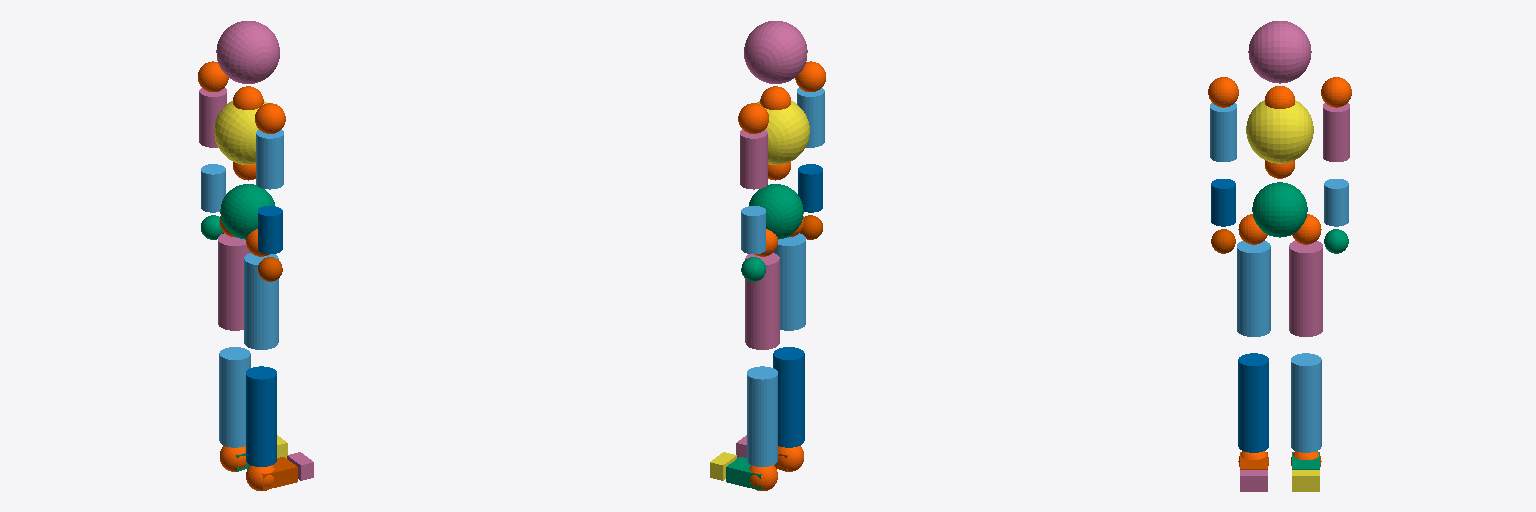
URDF robot description (dumpUrdf):
<?xml version="1.0" ?>
<!-- =================================================================================== -->
<!-- |    This document was autogenerated by xacro from human_45dof.xacro              | -->
<!-- |    EDITING THIS FILE BY HAND IS NOT RECOMMENDED                                 | -->
<!-- =================================================================================== -->
<robot name="dumpUrdf">
  <material name="orange">
    <color rgba="1.0 0.4235294117647059 0.0392156862745098 1.0"/>
  </material>
  <link name="base_link">
	</link>
  <link name="base">
	</link>
  <joint name="j_base_base_link_rotation" type="fixed">
    <parent link="base_link"/>
    <child link="base"/>
    <origin rpy="1.5707963267948966 0 0" xyz="0 0 0"/>
  </joint>
  <link name="root">
    <inertial>
      <origin rpy="0 0 0" xyz="0.0 0.07 0.0"/>
      <mass value="6.000000"/>
      <inertia ixx="0.019440000000000002" ixy="0" ixz="0" iyy="0.019440000000000002" iyz="0" izz="0.019440000000000002"/>
    </inertial>
    <collision>
      <origin rpy="0 0 0" xyz="0.000000 0.070000 0.000000"/>
      <geometry>
        <sphere radius="0.09"/>
      </geometry>
    </collision>
    <visual>
      <origin rpy="0 0 0" xyz="0.000000 0.070000 0.000000"/>
      <geometry>
        <sphere radius="0.09"/>
      </geometry>
    </visual>
  </link>
  <joint name="j_root" type="fixed">
    <parent link="base"/>
    <child link="root"/>
    <origin rpy="0 0 0" xyz="0 0.000000 0.000000"/>
  </joint>
  <link name="chest">
    <inertial>
      <origin rpy="0 0 0" xyz="0.000000 0.120000 0.000000"/>
      <mass value="14.000000"/>
      <inertia ixx="0.06776000000000001" ixy="0" ixz="0" iyy="0.06776000000000001" iyz="0" izz="0.06776000000000001"/>
    </inertial>
    <collision>
      <origin rpy="0 0 0" xyz="0.000000 0.120000 0.000000"/>
      <geometry>
        <sphere radius="0.11"/>
      </geometry>
    </collision>
    <visual>
      <origin rpy="0 0 0" xyz="0.000000 0.120000 0.000000"/>
      <geometry>
        <sphere radius="0.11"/>
      </geometry>
    </visual>
  </link>
  <link name="root_chest_link1">
    <inertial>
      <mass value="1e-02"/>
      <inertia ixx="1e-02" ixy="0" ixz="0" iyy="1e-02" iyz="0" izz="1e-02"/>
    </inertial>
  </link>
  <joint name="j_root_chest_joint1" type="revolute">
    <origin rpy="0 0 0" xyz="0.000000 0.236151 0.000000"/>
    <parent link="root"/>
    <child link="root_chest_link1"/>
    <axis xyz="1 0 0"/>
    <limit effort="200" lower="-1.2" upper="1.2" velocity="3"/>
  </joint>
  <link name="root_chest_link2">
    <inertial>
      <mass value="1e-02"/>
      <inertia ixx="1e-02" ixy="0" ixz="0" iyy="1e-02" iyz="0" izz="1e-02"/>
    </inertial>
    <visual>
      <geometry>
        <sphere radius="0.05"/>
      </geometry>
      <material name="orange"/>
    </visual>
  </link>
  <joint name="j_root_chest_joint2" type="revolute">
    <parent link="root_chest_link1"/>
    <child link="root_chest_link2"/>
    <axis xyz="0 1 0"/>
    <limit effort="200" lower="-1.2" upper="1.2" velocity="3"/>
  </joint>
  <joint name="j_root_chest_joint3" type="revolute">
    <parent link="root_chest_link2"/>
    <child link="chest"/>
    <axis xyz="0 0 1"/>
    <limit effort="200" lower="-1.2" upper="1.2" velocity="3"/>
  </joint>
  <link name="neck">
    <inertial>
      <origin rpy="0 0 0" xyz="0.0 0.175 0.0"/>
      <mass value="2.000000"/>
      <inertia ixx="0.008405" ixy="0" ixz="0" iyy="0.008405" iyz="0" izz="0.008405"/>
    </inertial>
    <collision>
      <origin rpy="0 0 0" xyz="0.0 0.175 0.0"/>
      <geometry>
        <sphere radius="0.1025"/>
      </geometry>
    </collision>
    <visual>
      <origin rpy="0 0 0" xyz="0.0 0.175 0.0"/>
      <geometry>
        <sphere radius="0.1025"/>
      </geometry>
    </visual>
  </link>
  <link name="chest_neck_link1">
    <inertial>
      <mass value="1e-02"/>
      <inertia ixx="1e-02" ixy="0" ixz="0" iyy="1e-02" iyz="0" izz="1e-02"/>
    </inertial>
  </link>
  <joint name="j_chest_neck_joint1" type="revolute">
    <origin rpy="0 0 0" xyz="0.000000 0.223894 0.000000"/>
    <parent link="chest"/>
    <child link="chest_neck_link1"/>
    <axis xyz="1 0 0"/>
    <limit effort="50" lower="-1" upper="1" velocity="3"/>
  </joint>
  <link name="chest_neck_link2">
    <inertial>
      <mass value="1e-02"/>
      <inertia ixx="1e-02" ixy="0" ixz="0" iyy="1e-02" iyz="0" izz="1e-02"/>
    </inertial>
    <visual>
      <geometry>
        <sphere radius="0.05"/>
      </geometry>
      <material name="orange"/>
    </visual>
  </link>
  <joint name="j_chest_neck_joint2" type="revolute">
    <parent link="chest_neck_link1"/>
    <child link="chest_neck_link2"/>
    <axis xyz="0 1 0"/>
    <limit effort="50" lower="-1" upper="1" velocity="3"/>
  </joint>
  <joint name="j_chest_neck_joint3" type="revolute">
    <parent link="chest_neck_link2"/>
    <child link="neck"/>
    <axis xyz="0 0 1"/>
    <limit effort="50" lower="-1" upper="1" velocity="3"/>
  </joint>
  <link name="right_hip">
    <inertial>
      <origin rpy="0 0 0" xyz="0.000000 -0.210000 0.000000"/>
      <mass value="4.500000"/>
      <inertia ixx="0.037153124999999995" ixy="0.0" ixz="0.0" iyy="0.037153124999999995" iyz="0.0" izz="0.00680625"/>
    </inertial>
    <collision>
      <origin rpy="1.5707963267948966 0 0" xyz="0.000000 -0.210000 0.000000"/>
      <geometry>
        <cylinder length="0.22499999999999998" radius="0.0275"/>
      </geometry>
    </collision>
    <visual>
      <origin rpy="1.5707963267948966 0 0" xyz="0.000000 -0.210000 0.000000"/>
      <geometry>
        <cylinder length="0.3" radius="0.055"/>
      </geometry>
    </visual>
  </link>
  <link name="root_right_hip_link1">
    <inertial>
      <mass value="1e-02"/>
      <inertia ixx="1e-02" ixy="0" ixz="0" iyy="1e-02" iyz="0" izz="1e-02"/>
    </inertial>
  </link>
  <joint name="j_root_right_hip_joint1" type="revolute">
    <origin rpy="0 0 0" xyz="0.000000 0.000000 0.084887"/>
    <parent link="root"/>
    <child link="root_right_hip_link1"/>
    <axis xyz="1 0 0"/>
    <limit effort="200" lower="-1.5" upper="1.5" velocity="3"/>
  </joint>
  <link name="root_right_hip_link2">
    <inertial>
      <mass value="1e-02"/>
      <inertia ixx="1e-02" ixy="0" ixz="0" iyy="1e-02" iyz="0" izz="1e-02"/>
    </inertial>
    <visual>
      <geometry>
        <sphere radius="0.05"/>
      </geometry>
      <material name="orange"/>
    </visual>
  </link>
  <joint name="j_root_right_hip_joint2" type="revolute">
    <parent link="root_right_hip_link1"/>
    <child link="root_right_hip_link2"/>
    <axis xyz="0 1 0"/>
    <limit effort="200" lower="-1.5" upper="1.5" velocity="3"/>
  </joint>
  <joint name="j_root_right_hip_joint3" type="revolute">
    <parent link="root_right_hip_link2"/>
    <child link="right_hip"/>
    <axis xyz="0 0 1"/>
    <limit effort="200" lower="-1.5" upper="1.5" velocity="3"/>
  </joint>
  <link name="right_knee">
    <inertial>
      <origin rpy="0 0 0" xyz="0.000000 -0.200000 0.000000"/>
      <mass value="3.000000"/>
      <inertia ixx="0.1" ixy="0" ixz="0" iyy="0.1" iyz="0" izz="0.1"/>
    </inertial>
    <collision>
      <origin rpy="1.5707963267948966 0 0" xyz="0.000000 -0.200000 0.000000"/>
      <geometry>
        <cylinder length="0.23249999999999998" radius="0.025"/>
      </geometry>
    </collision>
    <visual>
      <origin rpy="1.5707963267948966 0 0" xyz="0.000000 -0.200000 0.000000"/>
      <geometry>
        <cylinder length="0.31" radius="0.05"/>
      </geometry>
    </visual>
  </link>
  <joint name="j_right_knee" type="revolute">
    <parent link="right_hip"/>
    <child link="right_knee"/>
    <limit effort="150.0" lower="-3.14" upper="0." velocity="0.5"/>
    <origin rpy="0 0 0" xyz="0.000000 -0.421546 0.000000"/>
    <axis xyz="0.000000 0.000000 1.000000"/>
  </joint>
  <link name="right_ankle">
    <inertial>
      <origin rpy="0 0 0" xyz="0.045 -0.00225 0.000000"/>
      <mass value="1.000000"/>
      <inertia ixx="0.0009270833333333333" ixy="0.0" ixz="0.0" iyy="0.0028628333333333327" iyz="0.0" izz="0.003285749999999999"/>
    </inertial>
    <collision>
      <origin rpy="0 0 0" xyz="0.045 -0.00225 0.000000"/>
      <geometry>
        <box size="0.127 0.055 0.09"/>
      </geometry>
    </collision>
    <visual>
      <origin rpy="0 0 0" xyz="0.045 -0.00225 0.000000"/>
      <geometry>
        <box size="0.127 0.055 0.09"/>
      </geometry>
    </visual>
  </link>
  <joint name="j_right_toe" type="fixed">
    <parent link="right_ankle"/>
    <child link="right_toe"/>
    <limit effort="150.0" lower="-3.14" upper="0." velocity="0.5"/>
    <origin rpy="0 0 0" xyz="0.1 0.0 0.0"/>
    <axis xyz="0.000000 0.000000 1.000000"/>
  </joint>
  <link name="right_toe">
    <inertial>
      <origin rpy="0 0 0" xyz="0.045 0.0 0.0"/>
      <mass value="0.3"/>
      <inertia ixx="0.0009270833333333333" ixy="0.0" ixz="0.0" iyy="0.0028628333333333327" iyz="0.0" izz="0.003285749999999999"/>
    </inertial>
    <collision>
      <origin rpy="0 0 0" xyz="0.045 0.0 0.0"/>
      <geometry>
        <box size="0.05 0.055 0.09"/>
      </geometry>
    </collision>
    <visual>
      <origin rpy="0 0 0" xyz="0.045 0.0 0.0"/>
      <geometry>
        <box size="0.05 0.055 0.09"/>
      </geometry>
    </visual>
  </link>
  <link name="right_knee_right_ankle_link1">
    <inertial>
      <mass value="1e-02"/>
      <inertia ixx="1e-02" ixy="0" ixz="0" iyy="1e-02" iyz="0" izz="1e-02"/>
    </inertial>
  </link>
  <joint name="j_right_knee_right_ankle_joint1" type="revolute">
    <origin rpy="0 0 0" xyz="0.000000 -0.409870 0.000000"/>
    <parent link="right_knee"/>
    <child link="right_knee_right_ankle_link1"/>
    <axis xyz="1 0 0"/>
    <limit effort="90" lower="-1.2" upper="1.2" velocity="3"/>
  </joint>
  <link name="right_knee_right_ankle_link2">
    <inertial>
      <mass value="1e-02"/>
      <inertia ixx="1e-02" ixy="0" ixz="0" iyy="1e-02" iyz="0" izz="1e-02"/>
    </inertial>
    <visual>
      <geometry>
        <sphere radius="0.05"/>
      </geometry>
      <material name="orange"/>
    </visual>
  </link>
  <joint name="j_right_knee_right_ankle_joint2" type="revolute">
    <parent link="right_knee_right_ankle_link1"/>
    <child link="right_knee_right_ankle_link2"/>
    <axis xyz="0 1 0"/>
    <limit effort="90" lower="-1.2" upper="1.2" velocity="3"/>
  </joint>
  <joint name="j_right_knee_right_ankle_joint3" type="revolute">
    <parent link="right_knee_right_ankle_link2"/>
    <child link="right_ankle"/>
    <axis xyz="0 0 1"/>
    <limit effort="90" lower="-1.2" upper="1.2" velocity="3"/>
  </joint>
  <link name="right_shoulder">
    <inertial>
      <origin rpy="0 0 0" xyz="0.000000 -0.140000 0.000000"/>
      <mass value="1.500000"/>
      <inertia ixx="0.004809374999999999" ixy="0.0" ixz="0.0" iyy="0.004809374999999999" iyz="0.0" izz="0.0015187500000000001"/>
    </inertial>
    <collision>
      <origin rpy="1.5707963267948966 0 0" xyz="0.000000 -0.140000 0.000000"/>
      <geometry>
        <cylinder length="0.135" radius="0.0225"/>
      </geometry>
    </collision>
    <visual>
      <origin rpy="1.5707963267948966 0 0" xyz="0.000000 -0.140000 0.000000"/>
      <geometry>
        <cylinder length="0.18" radius="0.045"/>
      </geometry>
    </visual>
  </link>
  <link name="chest_right_shoulder_link1">
    <inertial>
      <mass value="1e-02"/>
      <inertia ixx="1e-02" ixy="0" ixz="0" iyy="1e-02" iyz="0" izz="1e-02"/>
    </inertial>
  </link>
  <joint name="j_chest_right_shoulder_joint1" type="revolute">
    <origin rpy="0 0 0" xyz="-0.02406 0.24350 0.18311"/>
    <parent link="chest"/>
    <child link="chest_right_shoulder_link1"/>
    <axis xyz="1 0 0"/>
    <limit effort="100" lower="-3.14" upper="3.14" velocity="3"/>
  </joint>
  <link name="chest_right_shoulder_link2">
    <inertial>
      <mass value="1e-02"/>
      <inertia ixx="1e-02" ixy="0" ixz="0" iyy="1e-02" iyz="0" izz="1e-02"/>
    </inertial>
    <visual>
      <geometry>
        <sphere radius="0.05"/>
      </geometry>
      <material name="orange"/>
    </visual>
  </link>
  <joint name="j_chest_right_shoulder_joint2" type="revolute">
    <parent link="chest_right_shoulder_link1"/>
    <child link="chest_right_shoulder_link2"/>
    <axis xyz="0 1 0"/>
    <limit effort="100" lower="-3.14" upper="3.14" velocity="3"/>
  </joint>
  <joint name="j_chest_right_shoulder_joint3" type="revolute">
    <parent link="chest_right_shoulder_link2"/>
    <child link="right_shoulder"/>
    <axis xyz="0 0 1"/>
    <limit effort="100" lower="-3.14" upper="3.14" velocity="3"/>
  </joint>
  <link name="right_elbow">
    <inertial>
      <origin rpy="0 0 0" xyz="0.000000 -0.120000 0.000000"/>
      <mass value="1.000000"/>
      <inertia ixx="0.0019187499999999999" ixy="0.0" ixz="0.0" iyy="0.0019187499999999999" iyz="0.0" izz="0.0008"/>
    </inertial>
    <collision>
      <origin rpy="1.5707963267948966 0 0" xyz="0.0 -0.12 0.0"/>
      <geometry>
        <cylinder length="0.10125" radius="0.02"/>
      </geometry>
    </collision>
    <visual>
      <origin rpy="1.5707963267948966 0 0" xyz="0.0 -0.12 0.0"/>
      <geometry>
        <cylinder length="0.135" radius="0.04"/>
      </geometry>
    </visual>
  </link>
  <joint name="j_right_elbow" type="revolute">
    <parent link="right_shoulder"/>
    <child link="right_elbow"/>
    <limit effort="60.0" lower="0" upper="3.14" velocity="0.5"/>
    <origin rpy="0 0 0" xyz="0.000000 -0.274788 0.000000"/>
    <axis xyz="0.000000 0.000000 1.000000"/>
  </joint>
  <link name="right_wrist">
    <inertial>
      <origin rpy="0 0 0" xyz="0.000000 0.000000 0.000000"/>
      <mass value="0.500000"/>
      <inertia ixx="0.00032" ixy="0" ixz="0" iyy="0.00032" iyz="0" izz="0.00032"/>
    </inertial>
    <collision>
      <origin rpy="0 0 0" xyz="0.000000 0.000000 0.000000"/>
      <geometry>
        <sphere radius="0.04"/>
      </geometry>
    </collision>
    <visual>
      <origin rpy="0 0 0" xyz="0.000000 0.000000 0.000000"/>
      <geometry>
        <sphere radius="0.04"/>
      </geometry>
    </visual>
  </link>
  <joint name="j_right_wrist" type="fixed">
    <parent link="right_elbow"/>
    <child link="right_wrist"/>
    <origin rpy="0 0 0" xyz="0.000000 -0.258947 0.000000"/>
  </joint>
  <link name="left_hip">
    <inertial>
      <origin rpy="0 0 0" xyz="0.000000 -0.210000 0.000000"/>
      <mass value="4.500000"/>
      <inertia ixx="0.037153124999999995" ixy="0.0" ixz="0.0" iyy="0.037153124999999995" iyz="0.0" izz="0.00680625"/>
    </inertial>
    <collision>
      <origin rpy="1.5707963267948966 0 0" xyz="0.000000 -0.210000 0.000000"/>
      <geometry>
        <cylinder length="0.22499999999999998" radius="0.0275"/>
      </geometry>
    </collision>
    <visual>
      <origin rpy="1.5707963267948966 0 0" xyz="0.000000 -0.210000 0.000000"/>
      <geometry>
        <cylinder length="0.3" radius="0.055"/>
      </geometry>
    </visual>
  </link>
  <link name="root_left_hip_link1">
    <inertial>
      <mass value="1e-02"/>
      <inertia ixx="1e-02" ixy="0" ixz="0" iyy="1e-02" iyz="0" izz="1e-02"/>
    </inertial>
  </link>
  <joint name="j_root_left_hip_joint1" type="revolute">
    <origin rpy="0 0 0" xyz="0.000000 0.000000 -0.084887"/>
    <parent link="root"/>
    <child link="root_left_hip_link1"/>
    <axis xyz="1 0 0"/>
    <limit effort="200" lower="-1.5" upper="1.5" velocity="3"/>
  </joint>
  <link name="root_left_hip_link2">
    <inertial>
      <mass value="1e-02"/>
      <inertia ixx="1e-02" ixy="0" ixz="0" iyy="1e-02" iyz="0" izz="1e-02"/>
    </inertial>
    <visual>
      <geometry>
        <sphere radius="0.05"/>
      </geometry>
      <material name="orange"/>
    </visual>
  </link>
  <joint name="j_root_left_hip_joint2" type="revolute">
    <parent link="root_left_hip_link1"/>
    <child link="root_left_hip_link2"/>
    <axis xyz="0 1 0"/>
    <limit effort="200" lower="-1.5" upper="1.5" velocity="3"/>
  </joint>
  <joint name="j_root_left_hip_joint3" type="revolute">
    <parent link="root_left_hip_link2"/>
    <child link="left_hip"/>
    <axis xyz="0 0 1"/>
    <limit effort="200" lower="-1.5" upper="1.5" velocity="3"/>
  </joint>
  <link name="left_knee">
    <inertial>
      <origin rpy="0 0 0" xyz="0.000000 -0.200000 0.000000"/>
      <mass value="3.000000"/>
      <inertia ixx="0.025900000000000003" ixy="0.0" ixz="0.0" iyy="0.025900000000000003" iyz="0.0" izz="0.0037500000000000007"/>
    </inertial>
    <collision>
      <origin rpy="1.5707963267948966 0 0" xyz="0.000000 -0.200000 0.000000"/>
      <geometry>
        <cylinder length="0.23249999999999998" radius="0.025"/>
      </geometry>
    </collision>
    <visual>
      <origin rpy="1.5707963267948966 0 0" xyz="0.000000 -0.200000 0.000000"/>
      <geometry>
        <cylinder length="0.31" radius="0.05"/>
      </geometry>
    </visual>
  </link>
  <joint name="j_left_knee" type="revolute">
    <parent link="left_hip"/>
    <child link="left_knee"/>
    <limit effort="150.0" lower="-3.14" upper="0." velocity="0.5"/>
    <origin rpy="0 0 0" xyz="0.000000 -0.421546 0.000000"/>
    <axis xyz="0.000000 0.000000 1.000000"/>
  </joint>
  <link name="left_ankle">
    <inertial>
      <origin rpy="0 0 0" xyz="0.045 -0.00225 0.0"/>
      <mass value="0.7"/>
      <inertia ixx="0.0009270833333333333" ixy="0.0" ixz="0.0" iyy="0.0028628333333333327" iyz="0.0" izz="0.003285749999999999"/>
    </inertial>
    <collision>
      <origin rpy="0 0 0" xyz="0.045 -0.00225 0.0"/>
      <geometry>
        <box size="0.127 0.055 0.09"/>
      </geometry>
    </collision>
    <visual>
      <origin rpy="0 0 0" xyz="0.045 -0.00225 0.0"/>
      <geometry>
        <box size="0.127 0.055 0.09"/>
      </geometry>
    </visual>
  </link>
  <joint name="j_left_toe" type="fixed">
    <parent link="left_ankle"/>
    <child link="left_toe"/>
    <limit effort="150.0" lower="-3.14" upper="0." velocity="0.5"/>
    <origin rpy="0 0 0" xyz="0.1 0.0 0.0"/>
    <axis xyz="0.000000 0.000000 1.000000"/>
  </joint>
  <link name="left_toe">
    <inertial>
      <origin rpy="0 0 0" xyz="0.045 0.0 0.0"/>
      <mass value="0.3"/>
      <inertia ixx="0.0009270833333333333" ixy="0.0" ixz="0.0" iyy="0.0028628333333333327" iyz="0.0" izz="0.003285749999999999"/>
    </inertial>
    <collision>
      <origin rpy="0 0 0" xyz="0.045 0.0 0.0"/>
      <geometry>
        <box size="0.05 0.055 0.09"/>
      </geometry>
    </collision>
    <visual>
      <origin rpy="0 0 0" xyz="0.045 0.0 0.0"/>
      <geometry>
        <box size="0.05 0.055 0.09"/>
      </geometry>
    </visual>
  </link>
  <link name="left_knee_left_ankle_link1">
    <inertial>
      <mass value="1e-02"/>
      <inertia ixx="1e-02" ixy="0" ixz="0" iyy="1e-02" iyz="0" izz="1e-02"/>
    </inertial>
  </link>
  <joint name="j_left_knee_left_ankle_joint1" type="revolute">
    <origin rpy="0 0 0" xyz="0.000000 -0.40987 0.000000"/>
    <parent link="left_knee"/>
    <child link="left_knee_left_ankle_link1"/>
    <axis xyz="1 0 0"/>
    <limit effort="90" lower="-1.2" upper="1.2" velocity="3"/>
  </joint>
  <link name="left_knee_left_ankle_link2">
    <inertial>
      <mass value="1e-02"/>
      <inertia ixx="1e-02" ixy="0" ixz="0" iyy="1e-02" iyz="0" izz="1e-02"/>
    </inertial>
    <visual>
      <geometry>
        <sphere radius="0.05"/>
      </geometry>
      <material name="orange"/>
    </visual>
  </link>
  <joint name="j_left_knee_left_ankle_joint2" type="revolute">
    <parent link="left_knee_left_ankle_link1"/>
    <child link="left_knee_left_ankle_link2"/>
    <axis xyz="0 1 0"/>
    <limit effort="90" lower="-1.2" upper="1.2" velocity="3"/>
  </joint>
  <joint name="j_left_knee_left_ankle_joint3" type="revolute">
    <parent link="left_knee_left_ankle_link2"/>
    <child link="left_ankle"/>
    <axis xyz="0 0 1"/>
    <limit effort="90" lower="-1.2" upper="1.2" velocity="3"/>
  </joint>
  <link name="left_shoulder">
    <inertial>
      <origin rpy="0 0 0" xyz="0.000000 -0.140000 0.000000"/>
      <mass value="1.500000"/>
      <inertia ixx="0.004809374999999999" ixy="0.0" ixz="0.0" iyy="0.004809374999999999" iyz="0.0" izz="0.0015187500000000001"/>
    </inertial>
    <collision>
      <origin rpy="1.5707963267948966 0 0" xyz="0.000000 -0.140000 0.000000"/>
      <geometry>
        <cylinder length="0.135" radius="0.0225"/>
      </geometry>
    </collision>
    <visual>
      <origin rpy="1.5707963267948966 0 0" xyz="0.000000 -0.140000 0.000000"/>
      <geometry>
        <cylinder length="0.18" radius="0.045"/>
      </geometry>
    </visual>
  </link>
  <link name="chest_left_shoulder_link1">
    <inertial>
      <mass value="1e-02"/>
      <inertia ixx="1e-02" ixy="0" ixz="0" iyy="1e-02" iyz="0" izz="1e-02"/>
    </inertial>
  </link>
  <joint name="j_chest_left_shoulder_joint1" type="revolute">
    <origin rpy="0 0 0" xyz="-0.02405 0.24350 -0.18311"/>
    <parent link="chest"/>
    <child link="chest_left_shoulder_link1"/>
    <axis xyz="1 0 0"/>
    <limit effort="100" lower="-3.14" upper="3.14" velocity="3"/>
  </joint>
  <link name="chest_left_shoulder_link2">
    <inertial>
      <mass value="1e-02"/>
      <inertia ixx="1e-02" ixy="0" ixz="0" iyy="1e-02" iyz="0" izz="1e-02"/>
    </inertial>
    <visual>
      <geometry>
        <sphere radius="0.05"/>
      </geometry>
      <material name="orange"/>
    </visual>
  </link>
  <joint name="j_chest_left_shoulder_joint2" type="revolute">
    <parent link="chest_left_shoulder_link1"/>
    <child link="chest_left_shoulder_link2"/>
    <axis xyz="0 1 0"/>
    <limit effort="100" lower="-3.14" upper="3.14" velocity="3"/>
  </joint>
  <joint name="j_chest_left_shoulder_joint3" type="revolute">
    <parent link="chest_left_shoulder_link2"/>
    <child link="left_shoulder"/>
    <axis xyz="0 0 1"/>
    <limit effort="100" lower="-3.14" upper="3.14" velocity="3"/>
  </joint>
  <link name="left_elbow">
    <inertial>
      <origin rpy="0 0 0" xyz="0.000000 -0.12 0.000000"/>
      <mass value="1.000000"/>
      <inertia ixx="0.0019187499999999999" ixy="0.0" ixz="0.0" iyy="0.0019187499999999999" iyz="0.0" izz="0.0008"/>
    </inertial>
    <collision>
      <origin rpy="1.5707963267948966 0 0" xyz="0.000000 -0.12 0.000000"/>
      <geometry>
        <cylinder length="0.10125" radius="0.02"/>
      </geometry>
    </collision>
    <visual>
      <origin rpy="1.5707963267948966 0 0" xyz="0.000000 -0.12 0.000000"/>
      <geometry>
        <cylinder length="0.135" radius="0.04"/>
      </geometry>
    </visual>
  </link>
  <joint name="j_left_elbow" type="revolute">
    <parent link="left_shoulder"/>
    <child link="left_elbow"/>
    <limit effort="60.0" lower="0" upper="3.14" velocity="0.5"/>
    <origin rpy="0 0 0" xyz="0.000000 -0.274788 0.000000"/>
    <axis xyz="0.000000 0.000000 1.000000"/>
  </joint>
  <link name="left_wrist">
    <inertial>
      <origin rpy="0 0 0" xyz="0.000000 0.000000 0.000000"/>
      <mass value="0.500000"/>
      <inertia ixx="0.00032" ixy="0" ixz="0" iyy="0.00032" iyz="0" izz="0.00032"/>
    </inertial>
    <collision>
      <origin rpy="0 0 0" xyz="0.000000 0.000000 0.000000"/>
      <geometry>
        <sphere radius="0.04"/>
      </geometry>
    </collision>
    <visual>
      <origin rpy="0 0 0" xyz="0.000000 0.000000 0.000000"/>
      <geometry>
        <sphere radius="0.04"/>
      </geometry>
    </visual>
  </link>
  <joint name="j_left_wrist_joint" type="fixed">
    <parent link="left_elbow"/>
    <child link="left_wrist"/>
    <origin rpy="0 0 0" xyz="0.000000 -0.258947 0.000000"/>
  </joint>
</robot>

--- Facts derived from the render (not from the file) ---
3 views of the same robot in one strip: view 1: azimuth 30°, elevation 25°; view 2: azimuth 150°, elevation 25°; view 3: azimuth 270°, elevation 25° (orthographic).
Model dumpUrdf with 35 links and 34 joints (28 revolute, 6 fixed), rooted at base_link, posed every joint at zero.
Links seen in each view (by area): view 1: neck, right_knee, right_hip, left_knee, left_hip, chest, root, right_shoulder, right_elbow, left_shoulder, left_elbow, chest_right_shoulder_link2 (+5 smaller); view 2: neck, left_knee, left_hip, right_knee, right_hip, chest, root, left_shoulder, right_shoulder, left_elbow, right_elbow, chest_left_shoulder_link2 (+5 smaller); view 3: chest, right_hip, left_hip, neck, right_knee, left_knee, root, right_shoulder, left_shoulder, right_elbow, left_elbow, chest_right_shoulder_link2 (+6 smaller).
Boxes of the visible links, <box> form: neck: <box>216,21,279,83</box>; right_knee: <box>246,366,276,466</box>; right_hip: <box>244,253,278,349</box>; left_knee: <box>219,347,250,447</box>; left_hip: <box>218,233,250,330</box>; chest: <box>214,101,266,164</box>; root: <box>220,184,274,239</box>; right_shoulder: <box>256,129,283,189</box>; right_elbow: <box>258,206,282,253</box>; left_shoulder: <box>199,88,226,147</box>; left_elbow: <box>201,164,225,212</box>; chest_right_shoulder_link2: <box>255,103,285,133</box>; neck: <box>744,21,807,83</box>; left_knee: <box>747,366,777,466</box>; left_hip: <box>745,253,779,349</box>; right_knee: <box>773,347,804,447</box>; right_hip: <box>773,233,805,330</box>; chest: <box>757,101,809,164</box>; root: <box>749,184,803,239</box>; left_shoulder: <box>740,129,767,189</box>; right_shoulder: <box>797,88,824,147</box>; left_elbow: <box>741,206,765,253</box>; right_elbow: <box>798,164,822,212</box>; chest_left_shoulder_link2: <box>738,103,768,133</box>; chest: <box>1246,100,1313,163</box>; right_hip: <box>1237,241,1270,336</box>; left_hip: <box>1289,241,1322,336</box>; neck: <box>1248,21,1311,83</box>; right_knee: <box>1238,353,1268,452</box>; left_knee: <box>1291,353,1321,452</box>; root: <box>1252,182,1307,237</box>; right_shoulder: <box>1210,103,1236,161</box>; left_shoulder: <box>1323,103,1349,161</box>; right_elbow: <box>1211,179,1235,226</box>; left_elbow: <box>1324,179,1348,226</box>; chest_right_shoulder_link2: <box>1208,77,1238,107</box>.
Bounding box of the posed robot: 0.28 × 0.4662 × 1.62 m (x, y, z).
Geometry: primitives only (box / cylinder / sphere), no mesh files.
